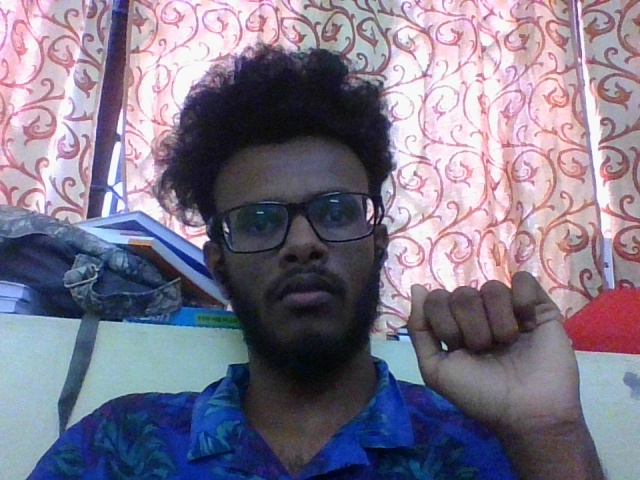yes: (402, 273, 613, 480)
